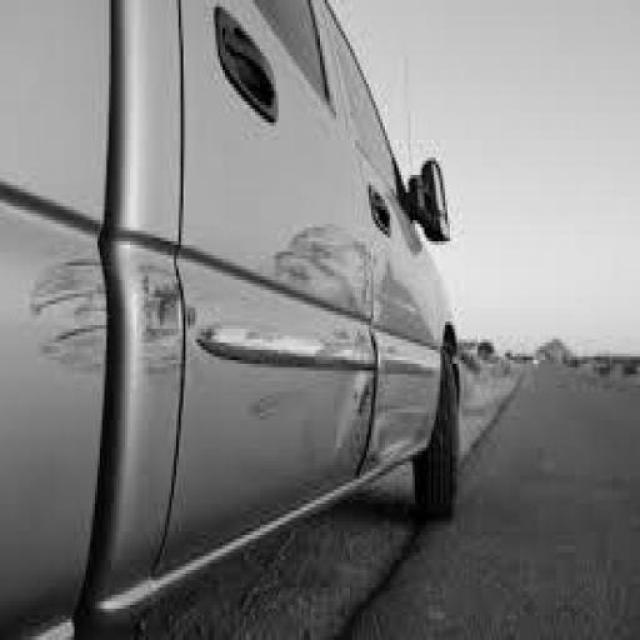scratch: (266, 214, 386, 452), (132, 256, 208, 393), (36, 253, 108, 378), (240, 383, 305, 440)
